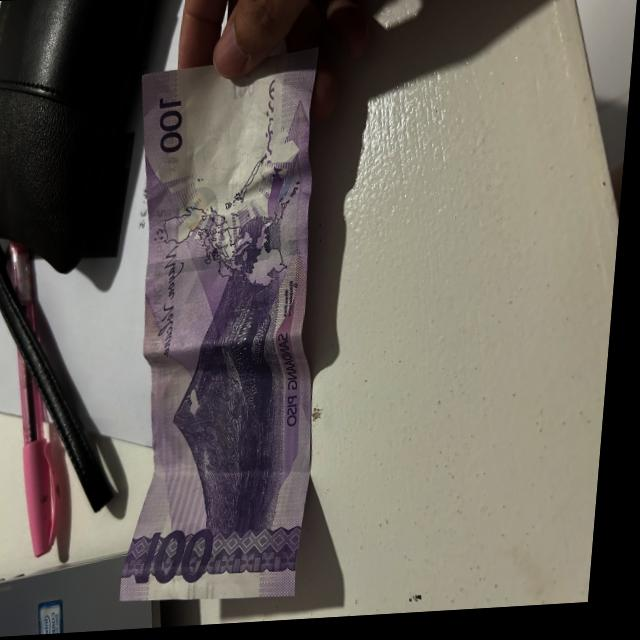100_whale: (235, 285, 288, 427)
100_whale_watermark: (269, 165, 291, 226)
value_watermark: (231, 73, 259, 106)
